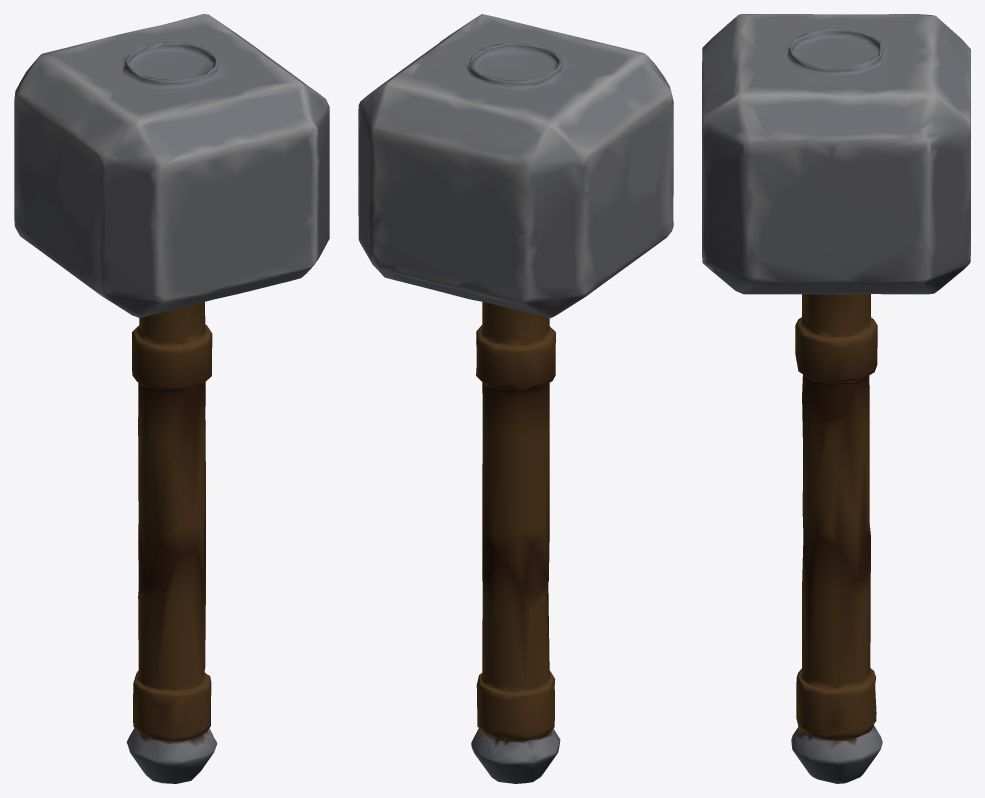
File: gen3d-war-hammer-lod0.glb
3 views of the same model, side by side, from view 1: azimuth 30°, elevation 25°; view 2: azimuth 150°, elevation 25°; view 3: azimuth 270°, elevation 25° (orthographic).
Parts seen in each view (by area): view 1: part_0; view 2: part_0; view 3: part_0.
Boxes of the visible parts, x1,y1,x2,y2 form: part_0: [14, 14, 329, 783]; part_0: [358, 14, 673, 783]; part_0: [702, 14, 970, 783].
Size of the model in its own units: 0.3313 by 0.9998 by 0.3355.
